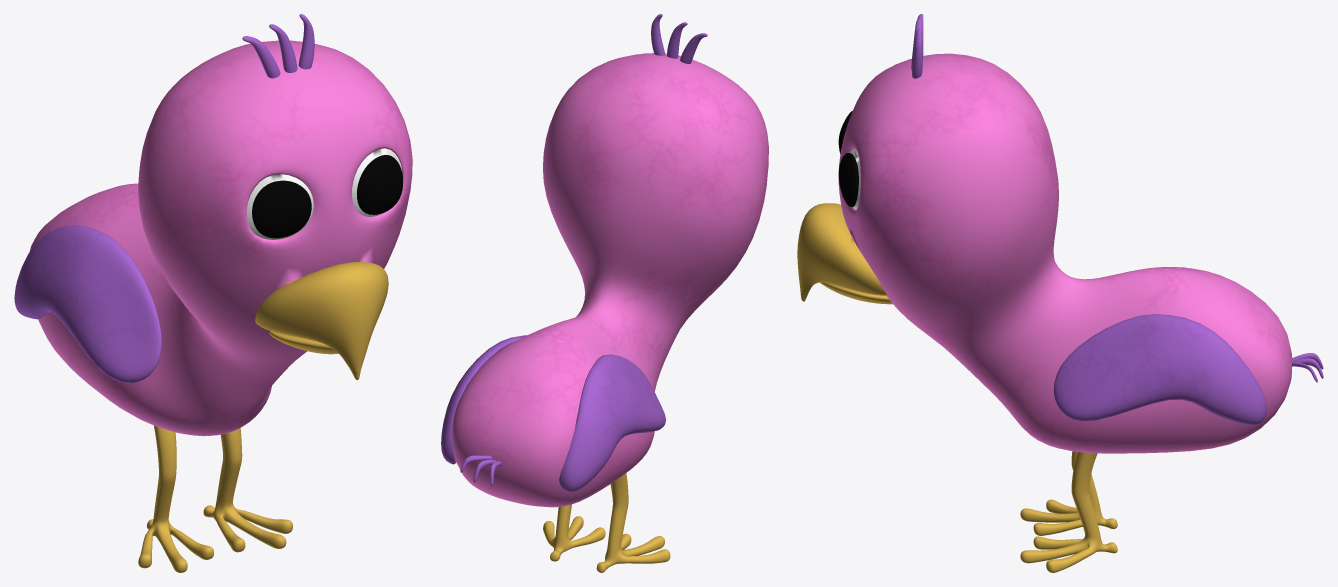
Rendered from Opila.glb.
The picture shows the model from 3 angles, left to right: view 1: azimuth 30°, elevation 25°; view 2: azimuth 150°, elevation 25°; view 3: azimuth 270°, elevation 25°; orthographic projection. The views are drawn at different scales.
Visible parts, largest first — view 1: Object_4; view 2: Object_4; view 3: Object_4.
Boxes of the visible parts, <box> form: Object_4: <box>14,14,412,572</box>; Object_4: <box>441,14,768,572</box>; Object_4: <box>797,14,1323,572</box>.
Size of the model in its own units: 0.5511 by 1.28 by 1.18.
Materials: 5 (5 with a texture image).
